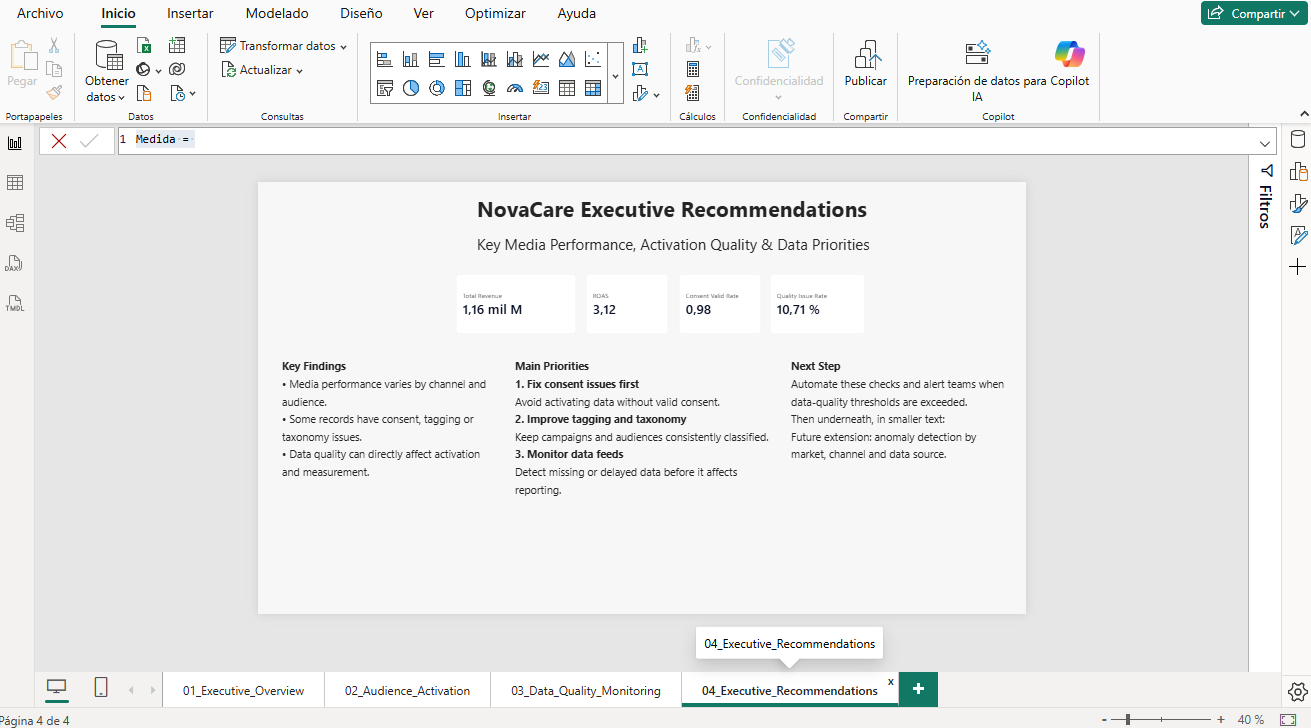

Layout of this report page (visuals, bound fields, positions):
{"tool":"powerbi","page":{"name":"04_Executive_Recommendations","canvas":[1920,1080],"ordinal":3},"visuals":[{"type":"textbox","box":[547.5,30,1012.5,132.5],"z":0},{"type":"textbox","box":[547.5,130,1117.5,62.5],"z":1000},{"type":"cardVisual","fields":{"Data":["novacare_audience_taxonomy.Total Revenue"]},"box":[495,230,300,150],"z":2000},{"type":"cardVisual","fields":{"Data":["Measuredata.ROAS"]},"box":[820,230,205,150],"z":3000},{"type":"cardVisual","fields":{"Data":["Measuredata.Consent Valid Rate"]},"box":[1052.5,230,205,150],"z":4000},{"type":"cardVisual","fields":{"Data":["Measuredata.Quality Issue Rate"]},"box":[1280,230,237.5,150],"z":5000},{"type":"textbox","box":[60,435,527.5,577.5],"z":6000},{"type":"textbox","box":[642.5,435,655,577.5],"z":7000},{"type":"textbox","box":[1332.5,435,542.5,417.5],"z":8000}]}

Visuals, with their boxes on the page's 1920x1080 design canvas (x1, y1, x2, y2). These are canvas units, not pixel positions in the 1311x728 screenshot, which may show the page scaled, cropped or inside an application window:
textbox: rect(548, 30, 1560, 162)
textbox: rect(548, 130, 1665, 192)
cardVisual - novacare_audience_taxonomy.Total Revenue: rect(495, 230, 795, 380)
cardVisual - Measuredata.ROAS: rect(820, 230, 1025, 380)
cardVisual - Measuredata.Consent Valid Rate: rect(1052, 230, 1258, 380)
cardVisual - Measuredata.Quality Issue Rate: rect(1280, 230, 1518, 380)
textbox: rect(60, 435, 588, 1012)
textbox: rect(642, 435, 1298, 1012)
textbox: rect(1332, 435, 1875, 852)
